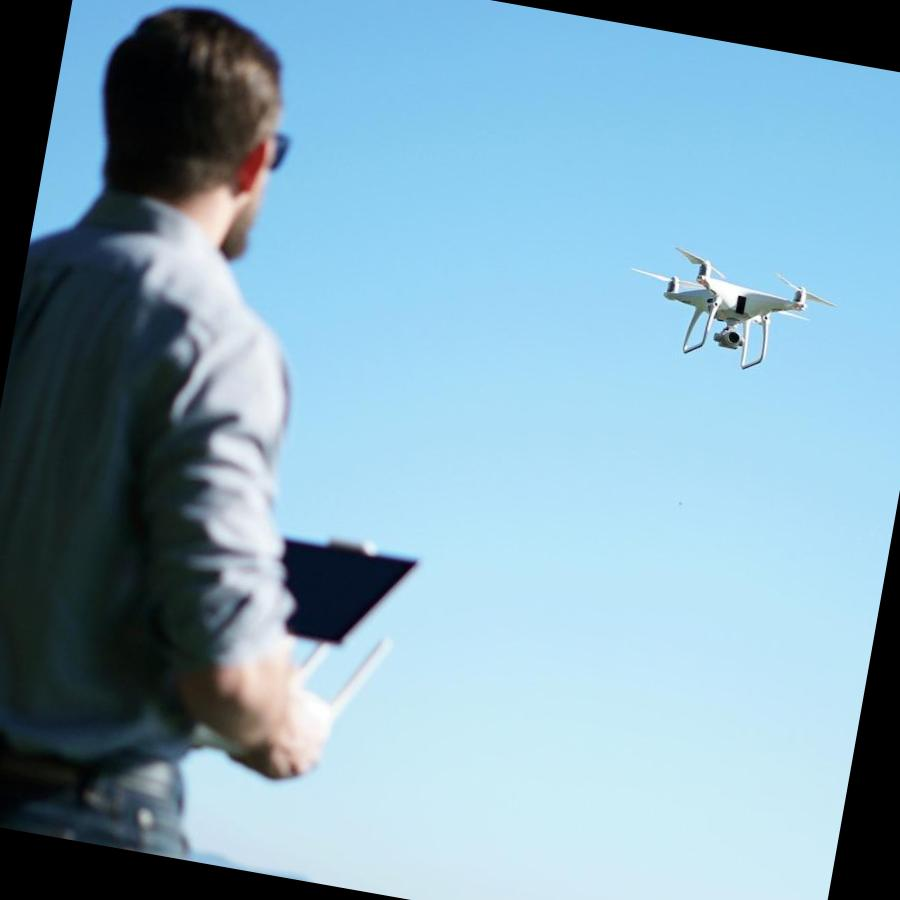drone: (602, 228, 840, 372)
